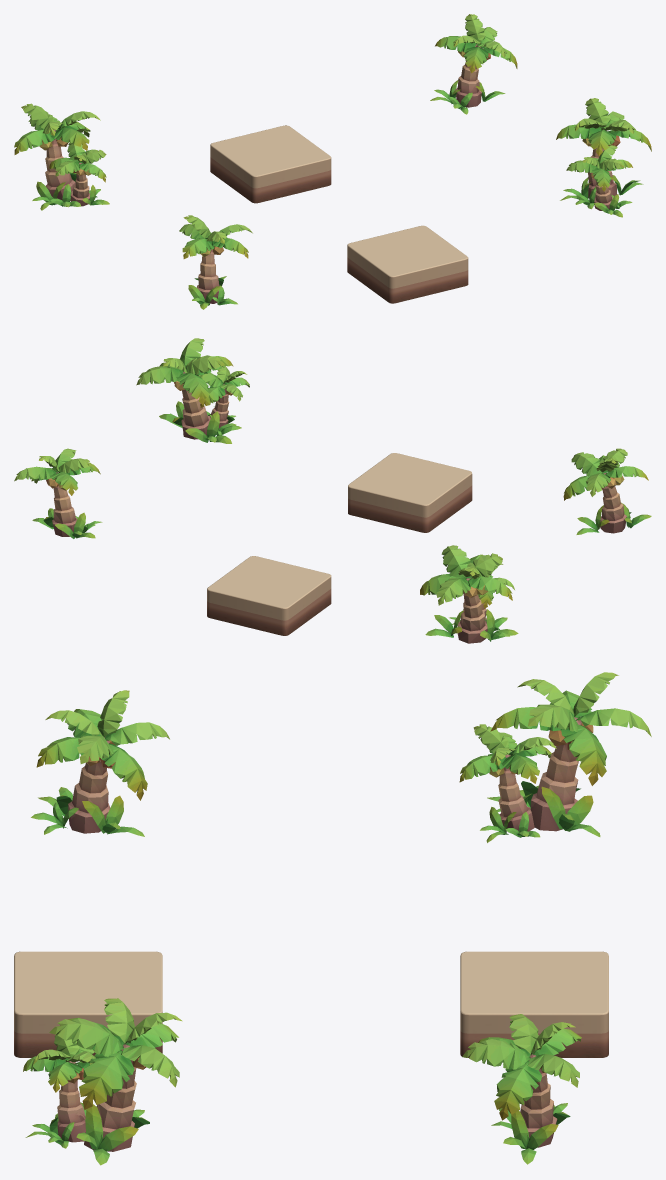
File: Props.fbx
3 renders of one model, top to bottom at view 1: azimuth 30°, elevation 25°; view 2: azimuth 150°, elevation 25°; view 3: azimuth 270°, elevation 25°, orthographic. The views are drawn at different scales.
Parts seen in each view (by area): view 1: Box02, Box02 (1), yezishu01, yezishu01 (1), yezishu02 (1), yezishu02; view 2: Box02 (1), Box02, yezishu01 (1), yezishu01, yezishu02, yezishu02 (1); view 3: yezishu01, yezishu01 (1), Box02 (1), Box02, yezishu02, yezishu02 (1).
Boxes of the visible parts, x1,y1,x2,y2 form: Box02: [347, 225, 468, 303]; Box02 (1): [210, 125, 331, 203]; yezishu01: [14, 103, 109, 210]; yezishu01 (1): [556, 98, 651, 217]; yezishu02 (1): [430, 14, 517, 114]; yezishu02: [179, 215, 252, 309]; Box02 (1): [207, 556, 331, 635]; Box02: [348, 453, 472, 532]; yezishu01 (1): [136, 338, 249, 443]; yezishu01: [420, 545, 518, 643]; yezishu02: [563, 448, 651, 534]; yezishu02 (1): [14, 448, 102, 538]; yezishu01: [459, 672, 651, 842]; yezishu01 (1): [23, 998, 182, 1165]; Box02 (1): [460, 951, 608, 1057]; Box02: [14, 951, 162, 1057]; yezishu02: [31, 690, 169, 836]; yezishu02 (1): [462, 1014, 581, 1164].
Size of the model in its own units: 49.63 by 10.64 by 34.31.
